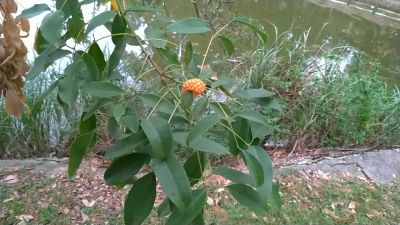eggs: (180, 74, 211, 100)
